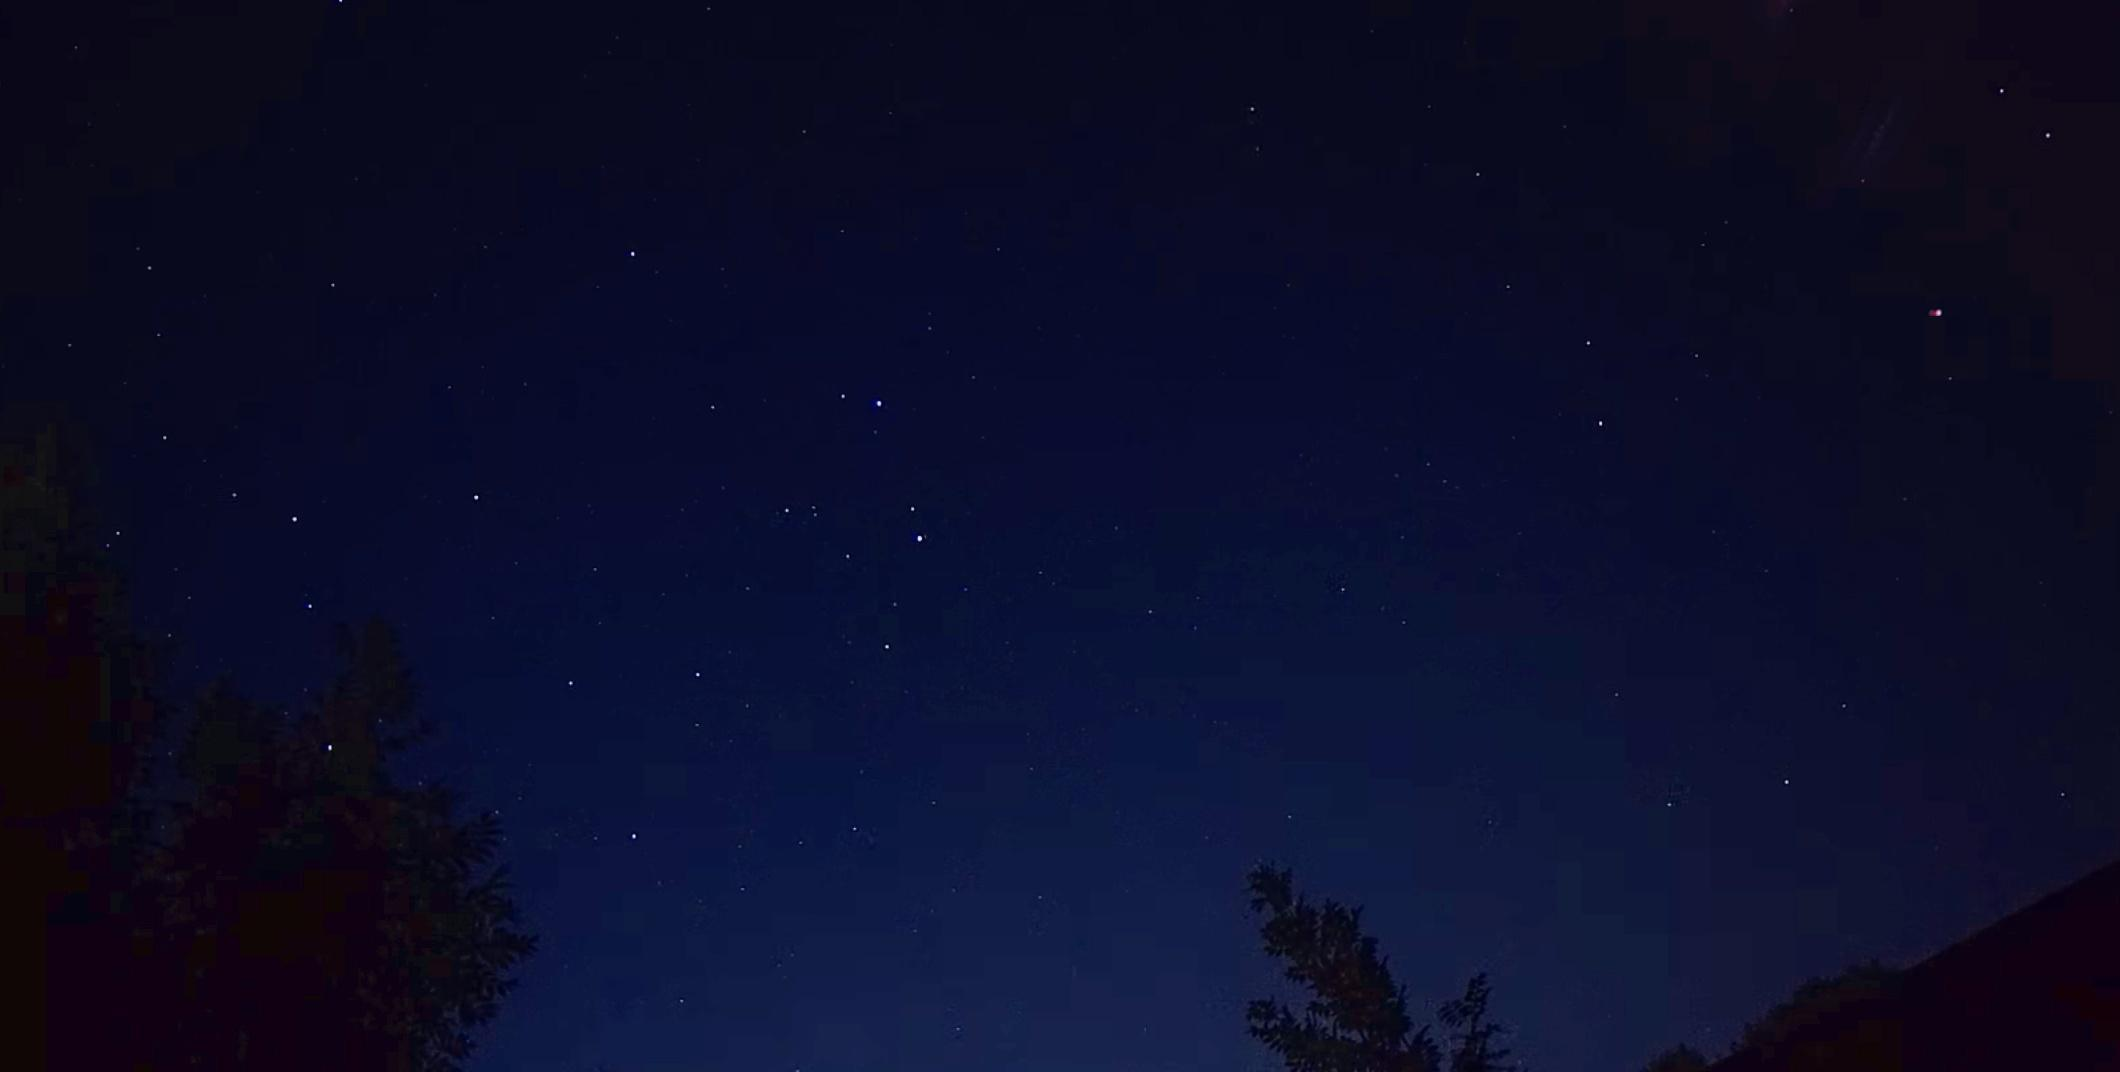Plane: (1910, 295, 1971, 330)
